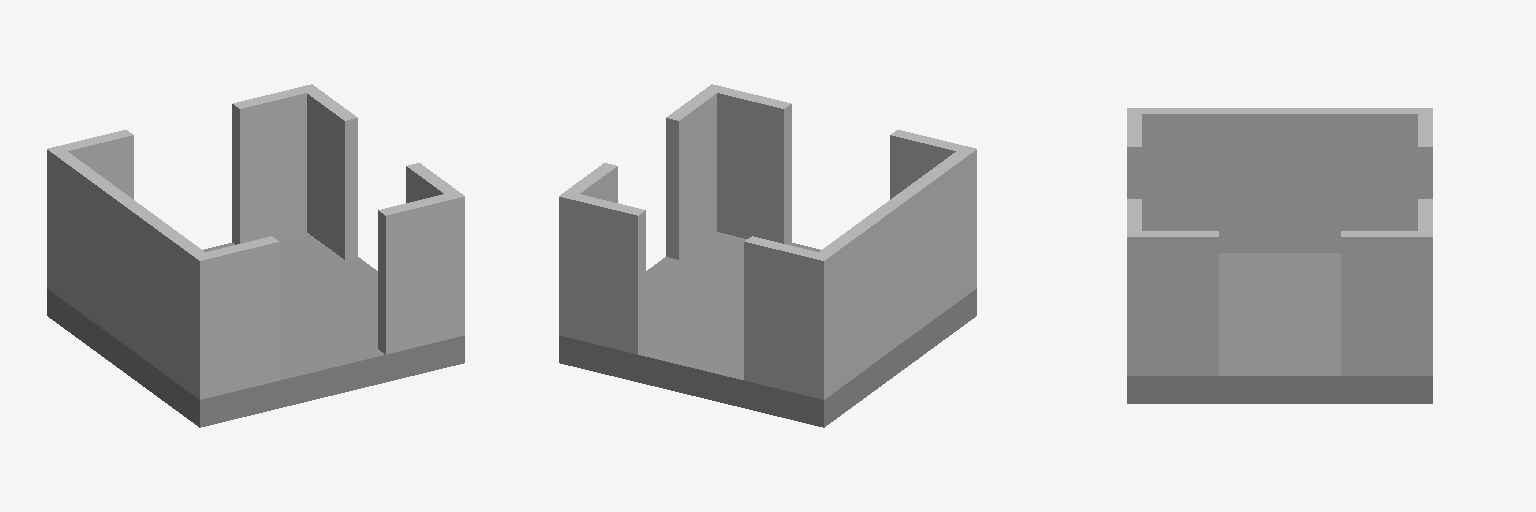
Rendered from big-room_3-exit.obj.
The picture shows the model from 3 angles: view 1: azimuth 30°, elevation 25°; view 2: azimuth 150°, elevation 25°; view 3: azimuth 270°, elevation 25°; orthographic projection.
Parts seen in each view (by area): view 1: Cube, Cube.006, Cube.002_Cube.007, Cube.007_Cube.008, Cube.001, Cube.005, Cube.003, Cube.004; view 2: Cube.006, Cube, Cube.001, Cube.007_Cube.008, Cube.003, Cube.004, Cube.002_Cube.007, Cube.005; view 3: Cube.006, Cube, Cube.005, Cube.004, Cube.007_Cube.008, Cube.002_Cube.007, Cube.003, Cube.001.
Boxes of the visible parts, box(x1,y1,x2,y2) form: Cube: box(47, 232, 464, 427); Cube.006: box(47, 146, 212, 398); Cube.002_Cube.007: box(192, 236, 279, 399); Cube.007_Cube.008: box(378, 191, 464, 354); Cube.001: box(232, 84, 318, 244); Cube.005: box(299, 84, 357, 259); Cube.003: box(47, 130, 133, 288); Cube.004: box(406, 163, 464, 337); Cube.006: box(811, 146, 976, 399); Cube: box(559, 232, 976, 427); Cube.001: box(559, 191, 645, 354); Cube.007_Cube.008: box(705, 84, 791, 244); Cube.003: box(744, 236, 831, 399); Cube.004: box(666, 86, 724, 259); Cube.002_Cube.007: box(890, 130, 976, 291); Cube.005: box(559, 163, 617, 337); Cube.006: box(1134, 108, 1432, 252); Cube: box(1127, 253, 1432, 403); Cube.005: box(1341, 231, 1432, 375); Cube.004: box(1127, 231, 1218, 375); Cube.007_Cube.008: box(1127, 199, 1141, 375); Cube.002_Cube.007: box(1127, 108, 1141, 198); Cube.003: box(1418, 108, 1432, 198); Cube.001: box(1418, 199, 1432, 375).
Bounding box in the file's own units: 10 × 6 × 10.